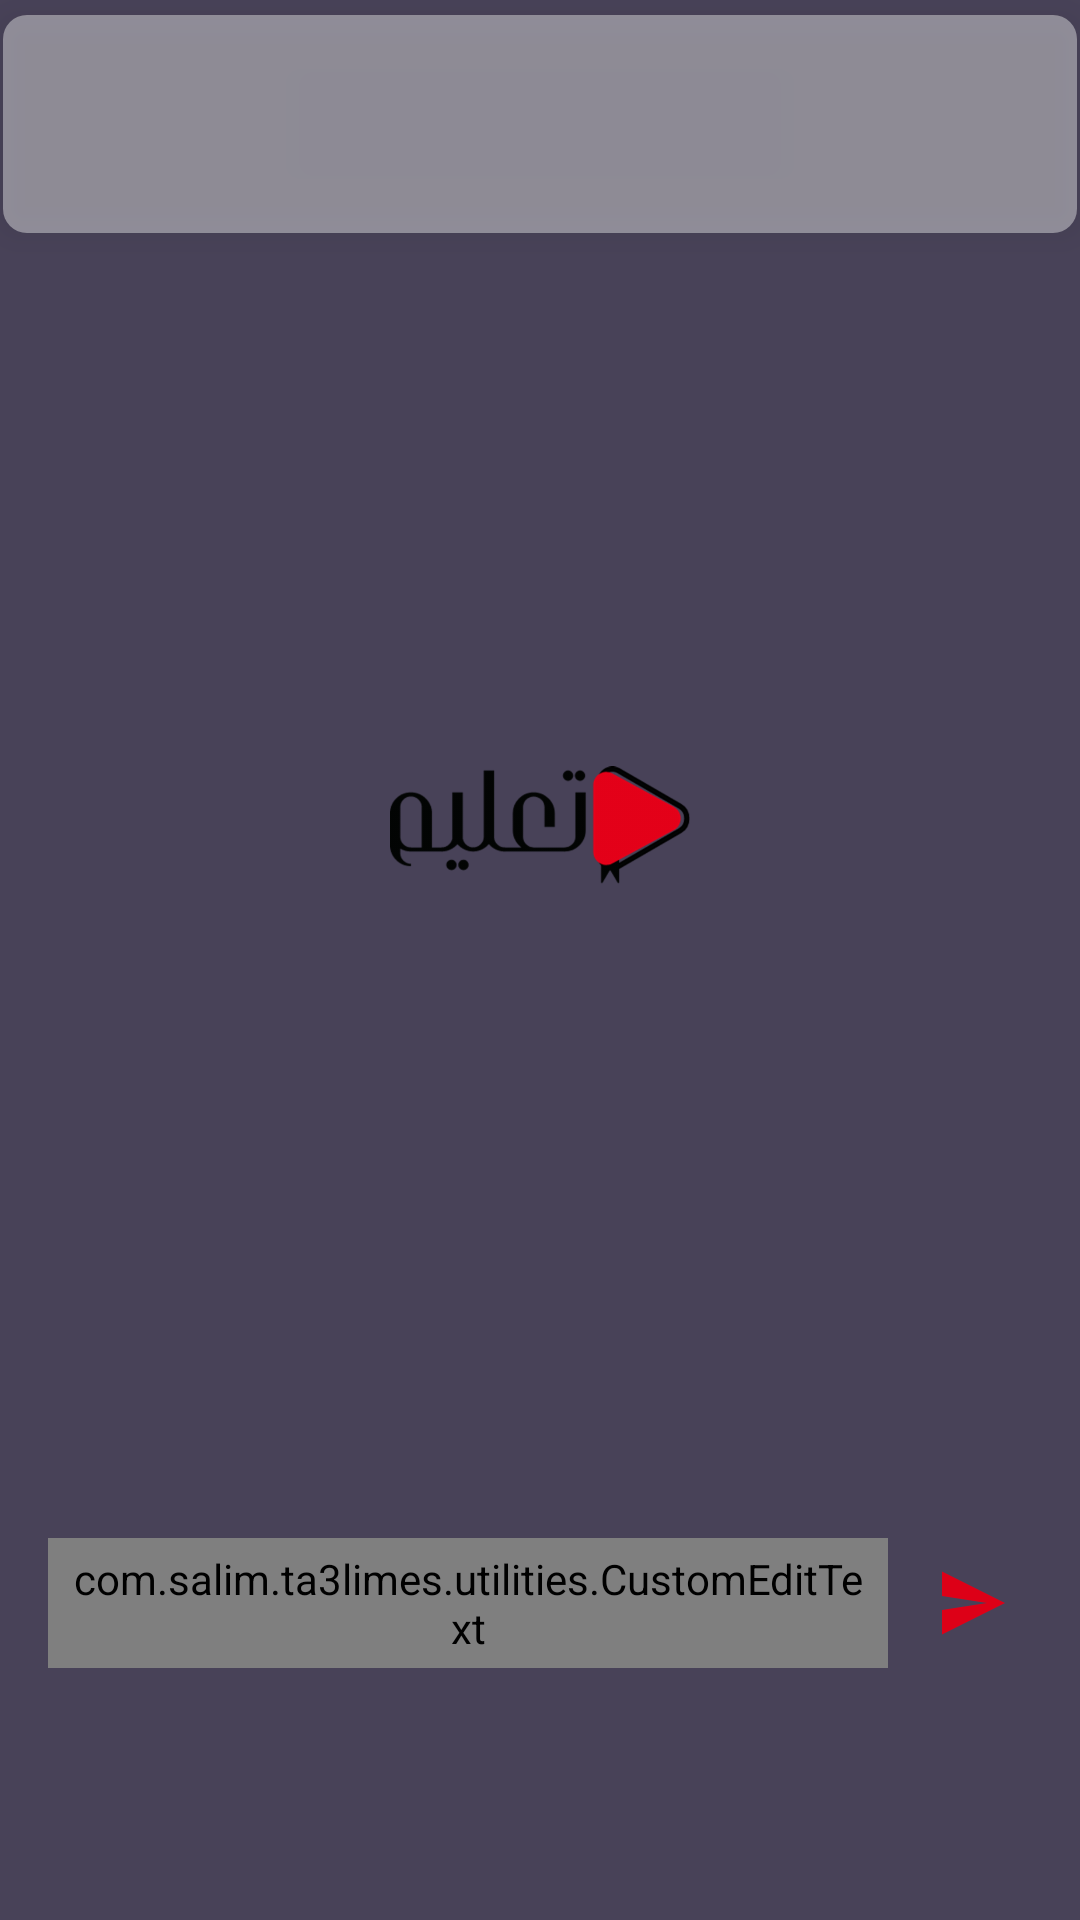

Locate icon controls on the screen. Image size 1080*1920, boxes as (x1, y1, x2, y2).
send: (942, 1571, 1005, 1635)
